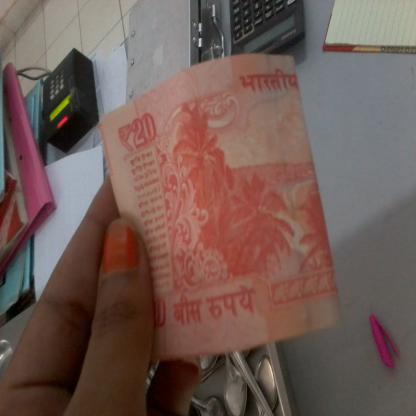Old20Back: (118, 69, 314, 348)
